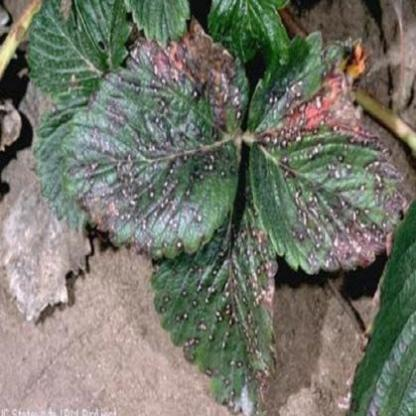Strawberry_Leaf_Spot: (57, 13, 251, 262), (243, 30, 415, 275), (151, 171, 280, 415), (24, 0, 137, 103)
